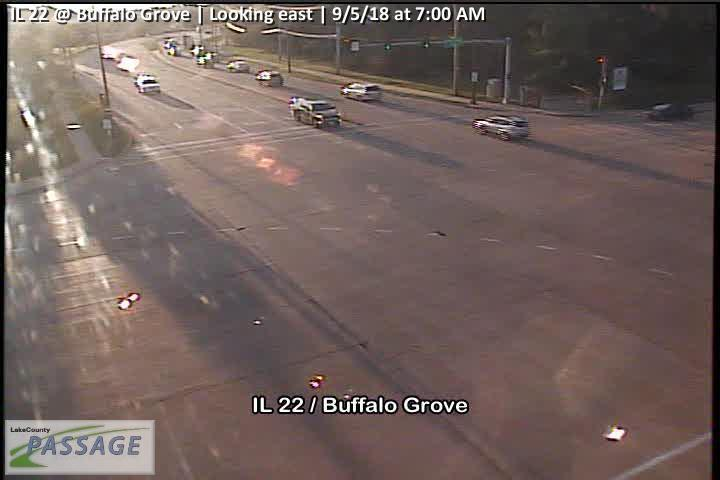SUV: (289, 96, 341, 129), (472, 115, 527, 142), (340, 82, 381, 102), (254, 70, 284, 87), (134, 74, 160, 93), (226, 60, 250, 73)
Sedan: (650, 103, 688, 121)
